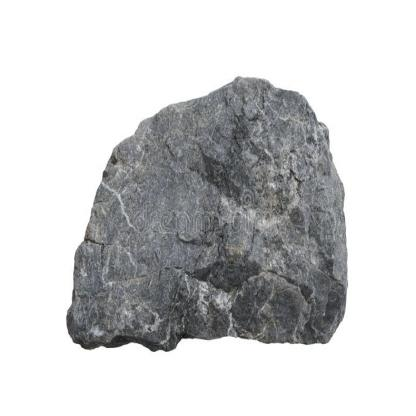Sedimentary_Limestone: (55, 63, 354, 357)
